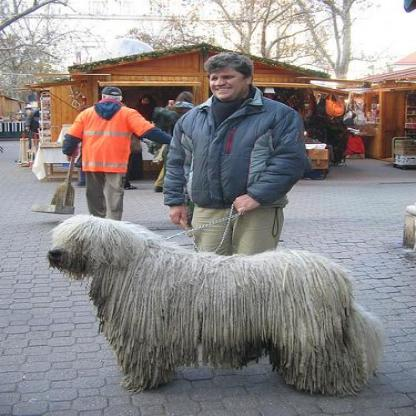komondor: (45, 209, 388, 392)
